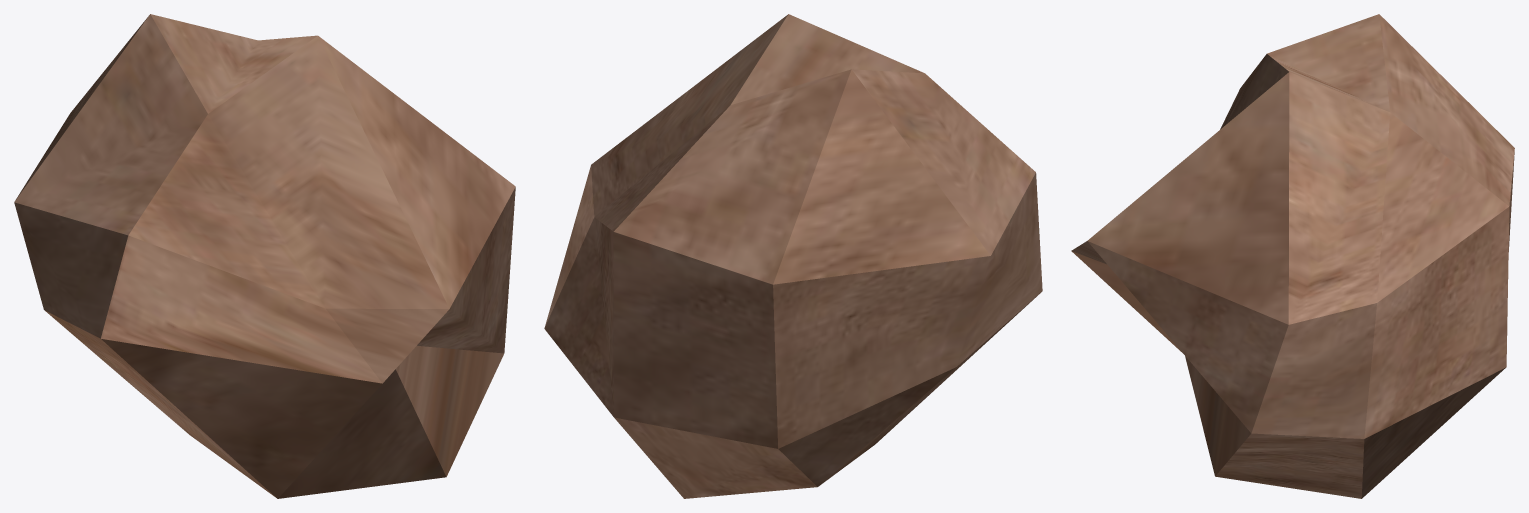
Rendered from tonf.gltf.
3 views of the same model, side by side, from view 1: azimuth 30°, elevation 25°; view 2: azimuth 150°, elevation 25°; view 3: azimuth 270°, elevation 25° (orthographic). The views are drawn at different scales.
Parts seen in each view (by area): view 1: Cube; view 2: Cube; view 3: Cube.
Boxes of the visible parts, x1,y1,x2,y2 form: Cube: (14, 14, 515, 498); Cube: (544, 14, 1042, 498); Cube: (1071, 14, 1514, 498).
Bounding box in the file's own units: 2.15 × 2.18 × 2.13.
1 material, 1 textured.
